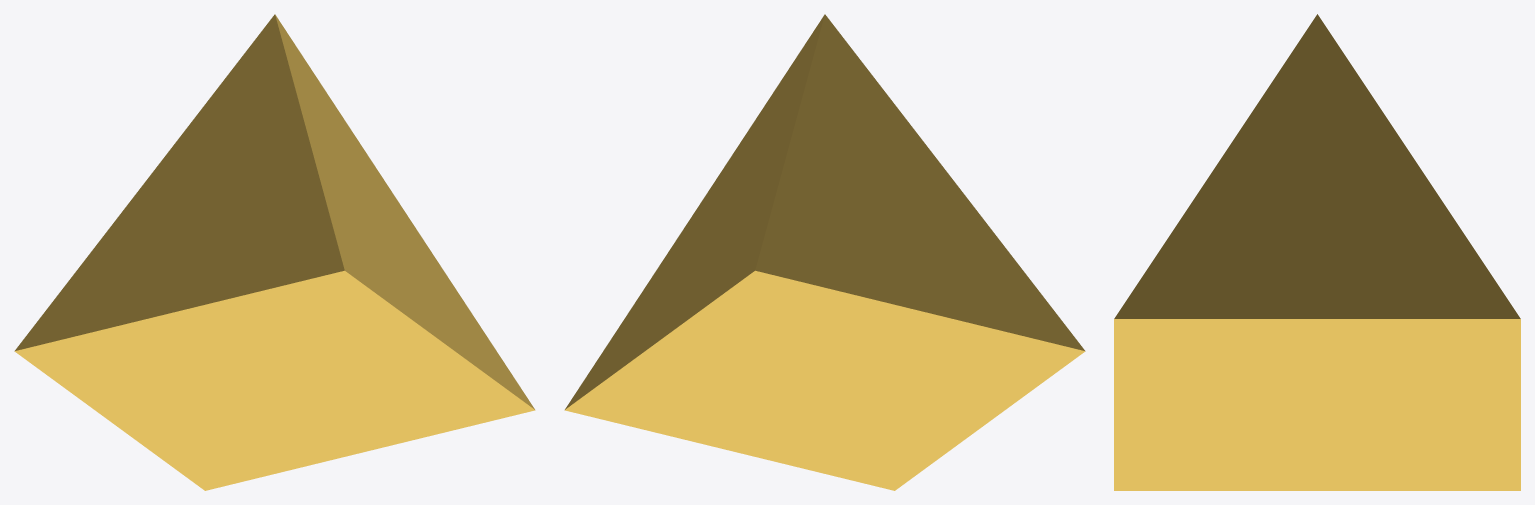
3 views of the same model, side by side, from view 1: azimuth 30°, elevation 25°; view 2: azimuth 150°, elevation 25°; view 3: azimuth 270°, elevation 25° (orthographic). The views are drawn at different scales.
Visible parts, largest first — view 1: Pyramid; view 2: Pyramid; view 3: Pyramid.
Boxes of the visible parts, x1,y1,x2,y2 form: Pyramid: [14, 14, 535, 490]; Pyramid: [564, 14, 1085, 490]; Pyramid: [1114, 14, 1520, 490].
Size of the model in its own units: 1.7 by 1.8 by 1.7.
